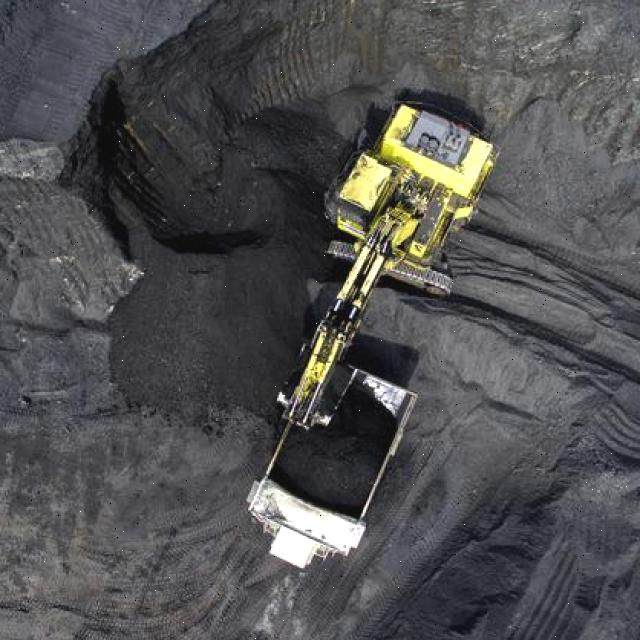Excavator: (257, 92, 504, 435)
